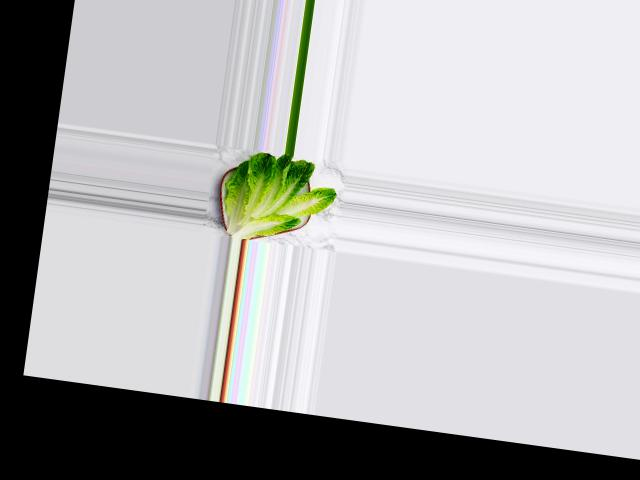lettuce: (212, 144, 343, 248)
